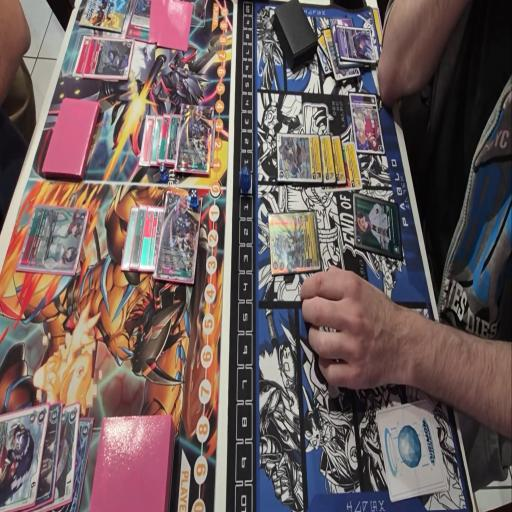card: (0, 400, 50, 512), (14, 204, 92, 275), (154, 198, 206, 280), (268, 209, 319, 277), (354, 194, 401, 260), (36, 401, 63, 512), (56, 400, 82, 506), (176, 106, 214, 178), (67, 414, 93, 512), (349, 91, 386, 157), (275, 134, 322, 184), (82, 41, 135, 81), (324, 28, 362, 78), (141, 207, 166, 272), (329, 16, 359, 65), (130, 203, 151, 272), (121, 202, 141, 273), (335, 27, 374, 63), (124, 0, 153, 46), (330, 132, 346, 192), (139, 116, 156, 169), (164, 117, 181, 168), (343, 142, 361, 190), (73, 36, 92, 80), (322, 134, 336, 191), (316, 37, 333, 77), (157, 115, 169, 168), (150, 117, 162, 166)
